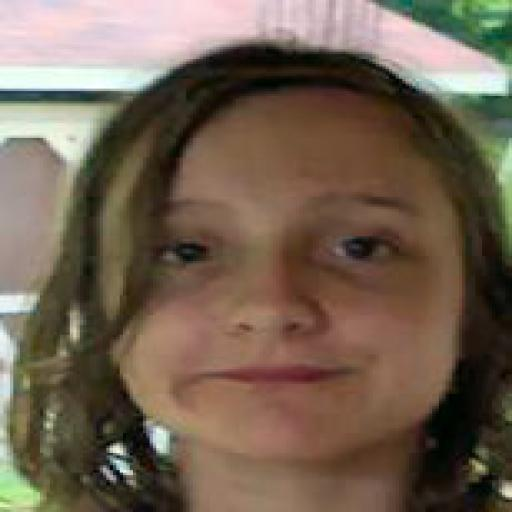Autism: (47, 16, 512, 496)
